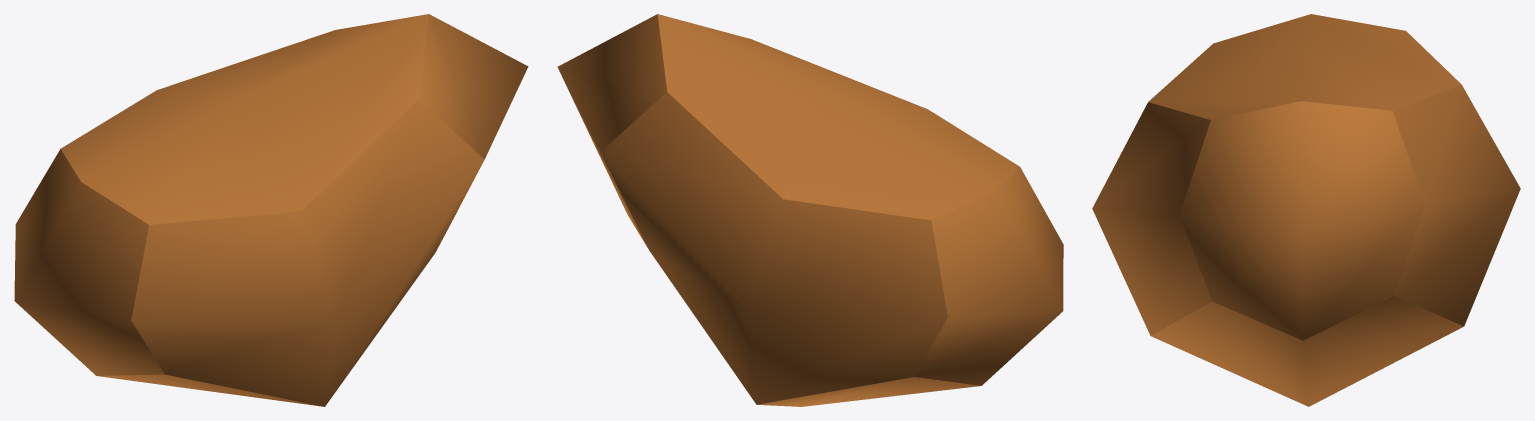
Rendered from copper_ore.obj.
The picture shows the model from 3 angles, left to right: view 1: azimuth 30°, elevation 25°; view 2: azimuth 150°, elevation 25°; view 3: azimuth 270°, elevation 25°; orthographic projection. The views are drawn at different scales.
Parts seen in each view (by area): view 1: copper_ore5; view 2: copper_ore5; view 3: copper_ore5.
Part boxes in pixels (box(x1,y1,x2,y2)): copper_ore5: box(14, 14, 528, 406); copper_ore5: box(557, 14, 1063, 406); copper_ore5: box(1092, 14, 1520, 406).
Size of the model in its own units: 1.29 by 0.8572 by 0.8675.
1 material, 1 textured.
